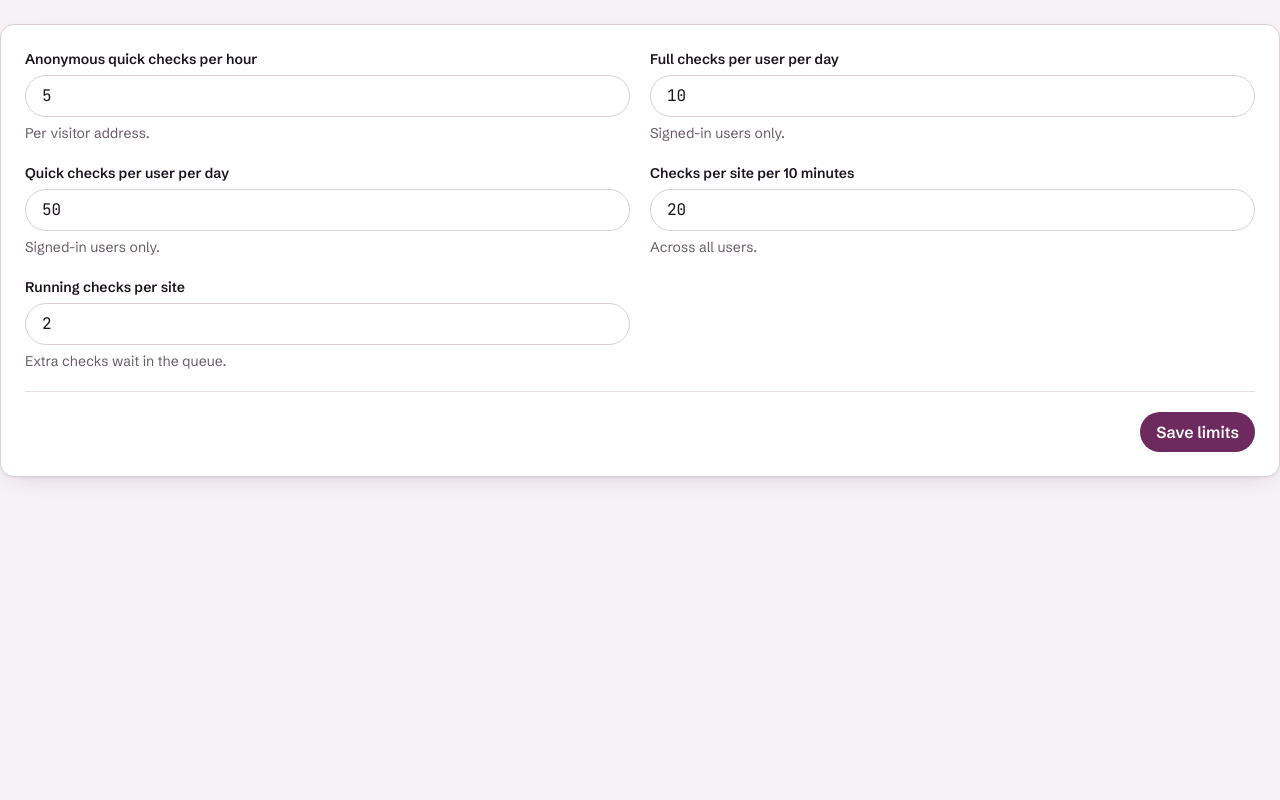
Test: LimitsForm › LimitsForm shows a toast on save and inline errors on 400
Click the button "Save limits" at (1198, 432), box [1140,412,1255,452]
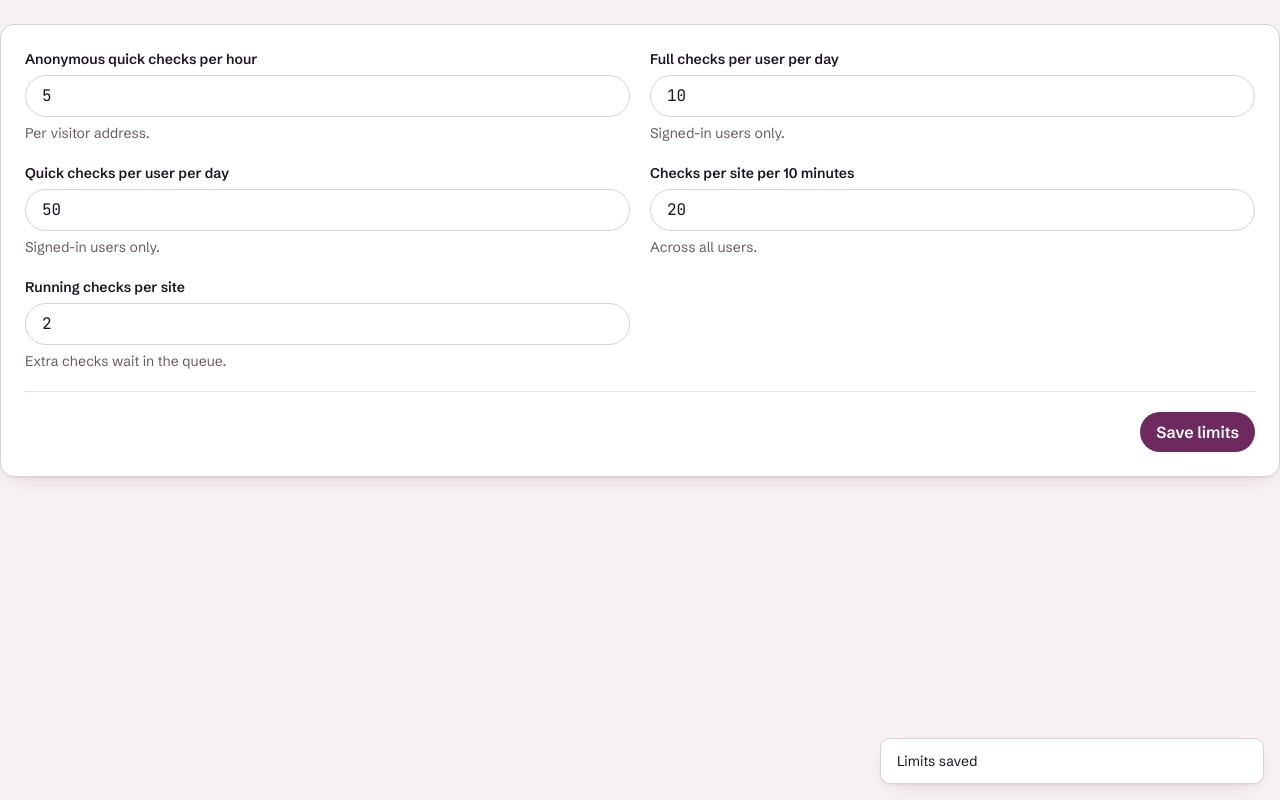
Expected: the heading "Limits saved" is shown, [897,752,978,770]
Click the button "Save limits" at (1198, 432), box [1140,412,1255,452]
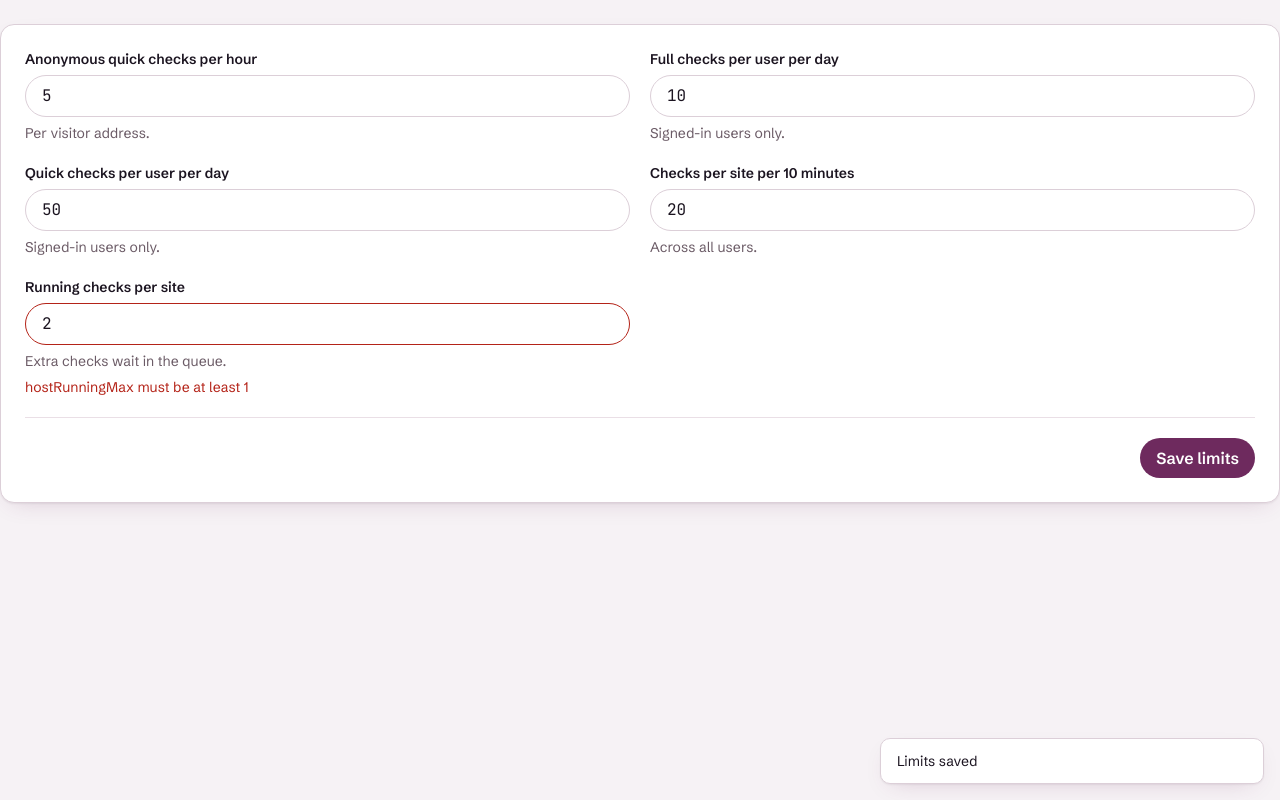
Expected: the message reads "hostRunningMax must be at least 1", [25,378,249,396]
